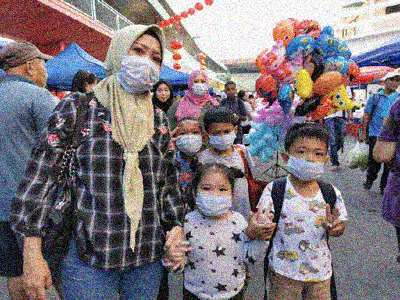mask_weared_incorrect: (287, 144, 327, 179)
with_mask: (118, 41, 161, 91), (194, 181, 233, 216), (174, 125, 203, 156), (209, 124, 237, 151), (191, 76, 208, 96)
without_mask: (32, 57, 49, 89), (155, 83, 172, 103), (385, 77, 400, 93), (226, 86, 238, 98)
